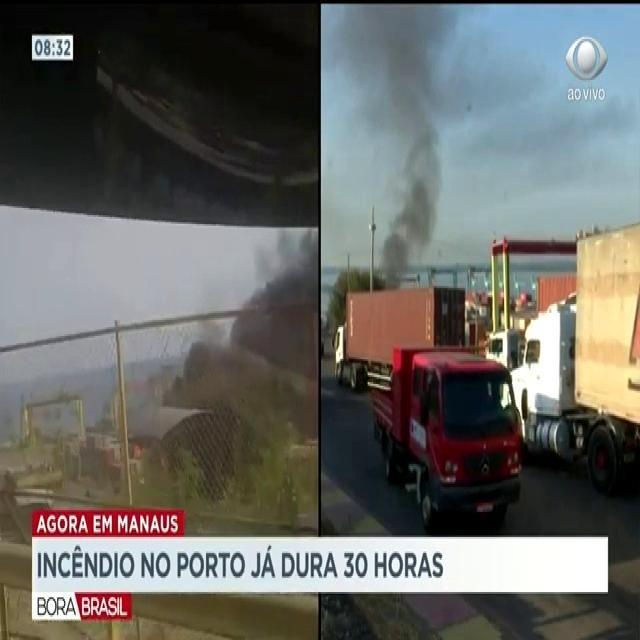Smoke: (333, 9, 471, 297)
